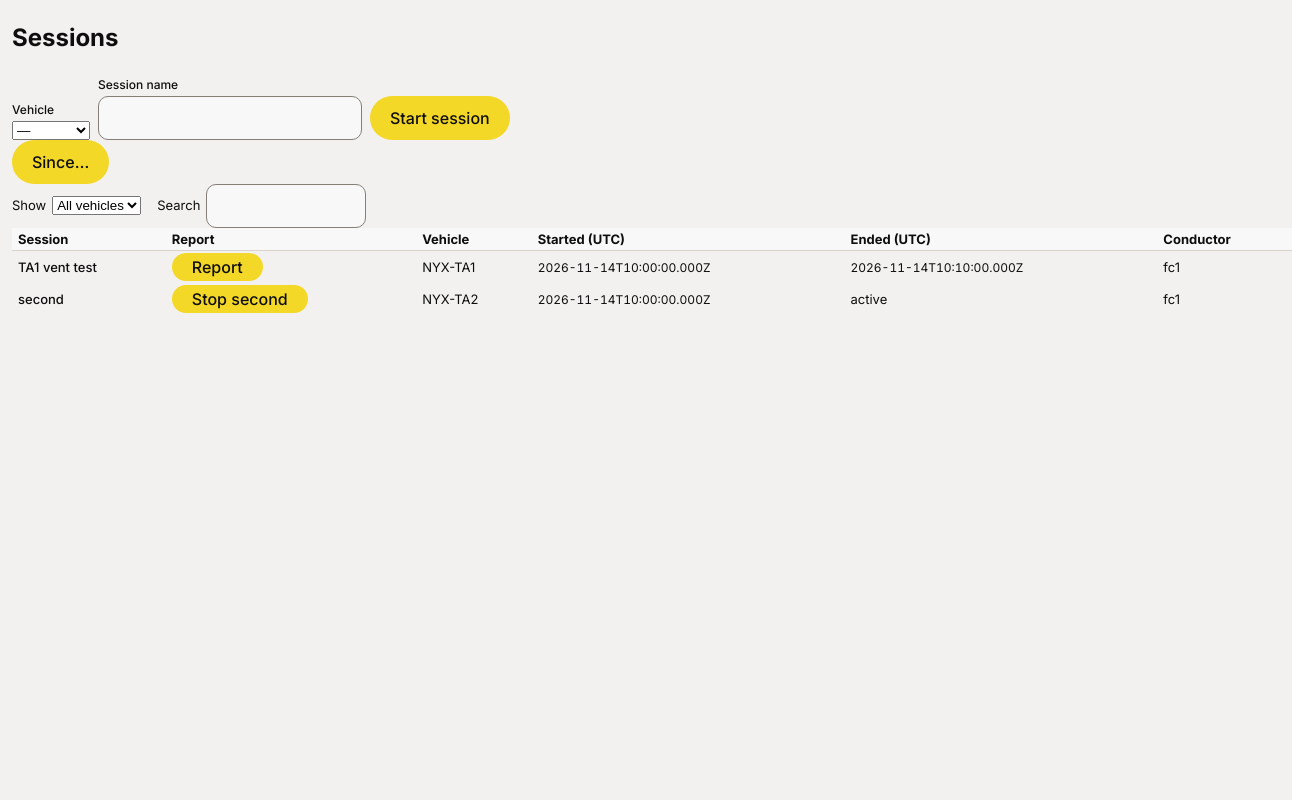
Test: an incomplete report says so with its frame counts; a running session says to stop it first
This screenshot has width=1292, height=800.
Step 1. Click the button "Report" → (217, 267), box [172,253,263,281]
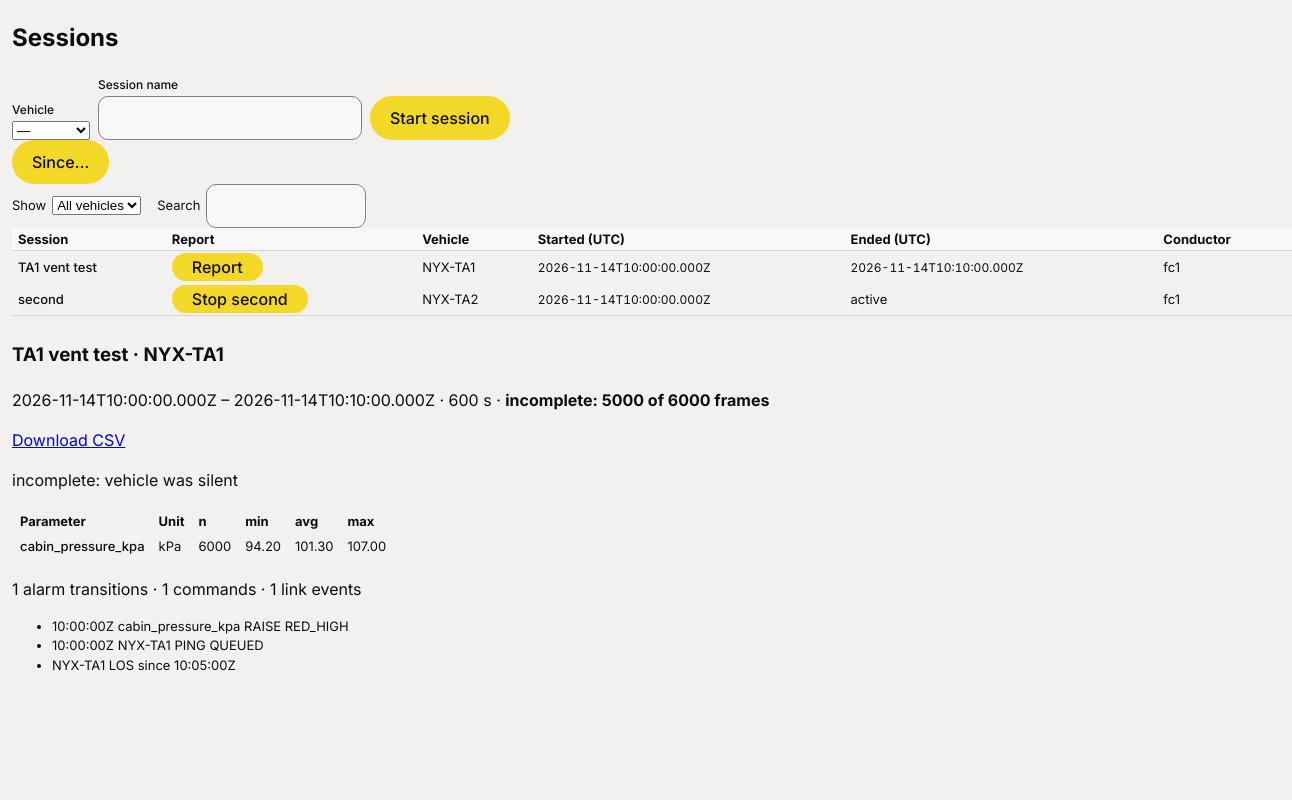
Check: the element with class "report" shows "incomplete: 5000 of 6000 frames", box [12,315,1291,688]
Check: the element with class "report" shows "vehicle was silent", box [12,470,238,490]
